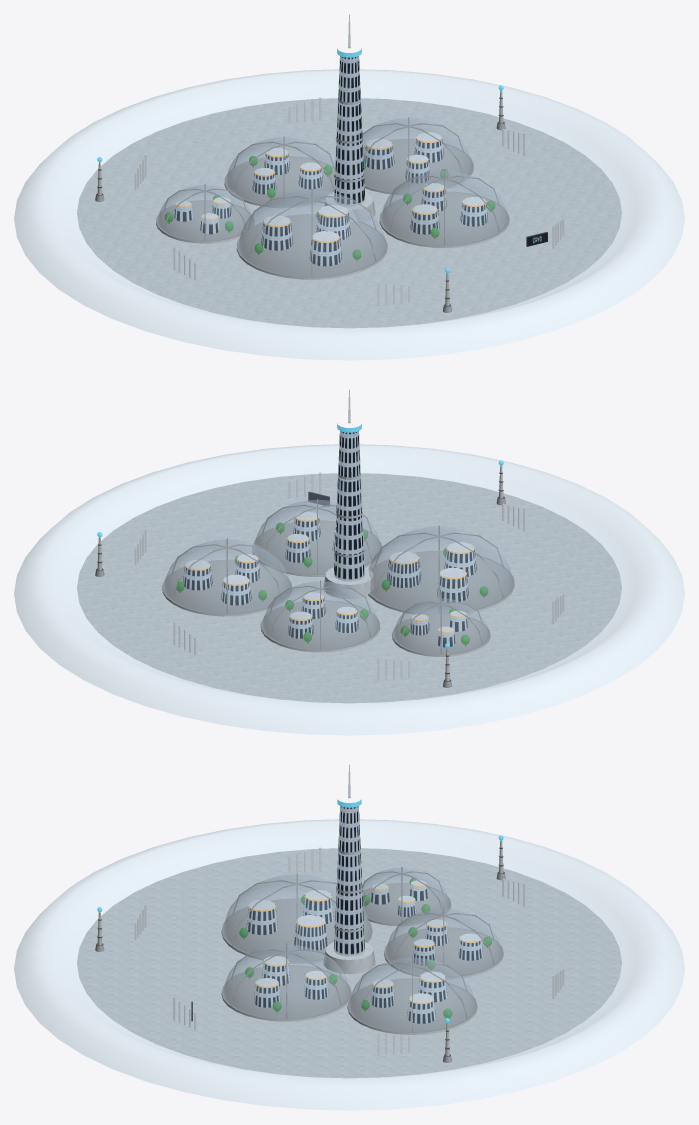
File: pluto_cryo_town.glb
3 renders of one model, top to bottom at view 1: azimuth 30°, elevation 25°; view 2: azimuth 150°, elevation 25°; view 3: azimuth 270°, elevation 25°, orthographic.
Parts seen in each view (by area): view 1: pluto_cryo_town_LOD0; view 2: pluto_cryo_town_LOD0; view 3: pluto_cryo_town_LOD0.
Part boxes in pixels (x1,y1,x2,y2): pluto_cryo_town_LOD0: [14, 14, 684, 360]; pluto_cryo_town_LOD0: [14, 389, 684, 735]; pluto_cryo_town_LOD0: [14, 764, 684, 1110].
Size of what is drawn, in the model's own units: 128 by 45.01 by 128.
4 materials, 3 textured.
